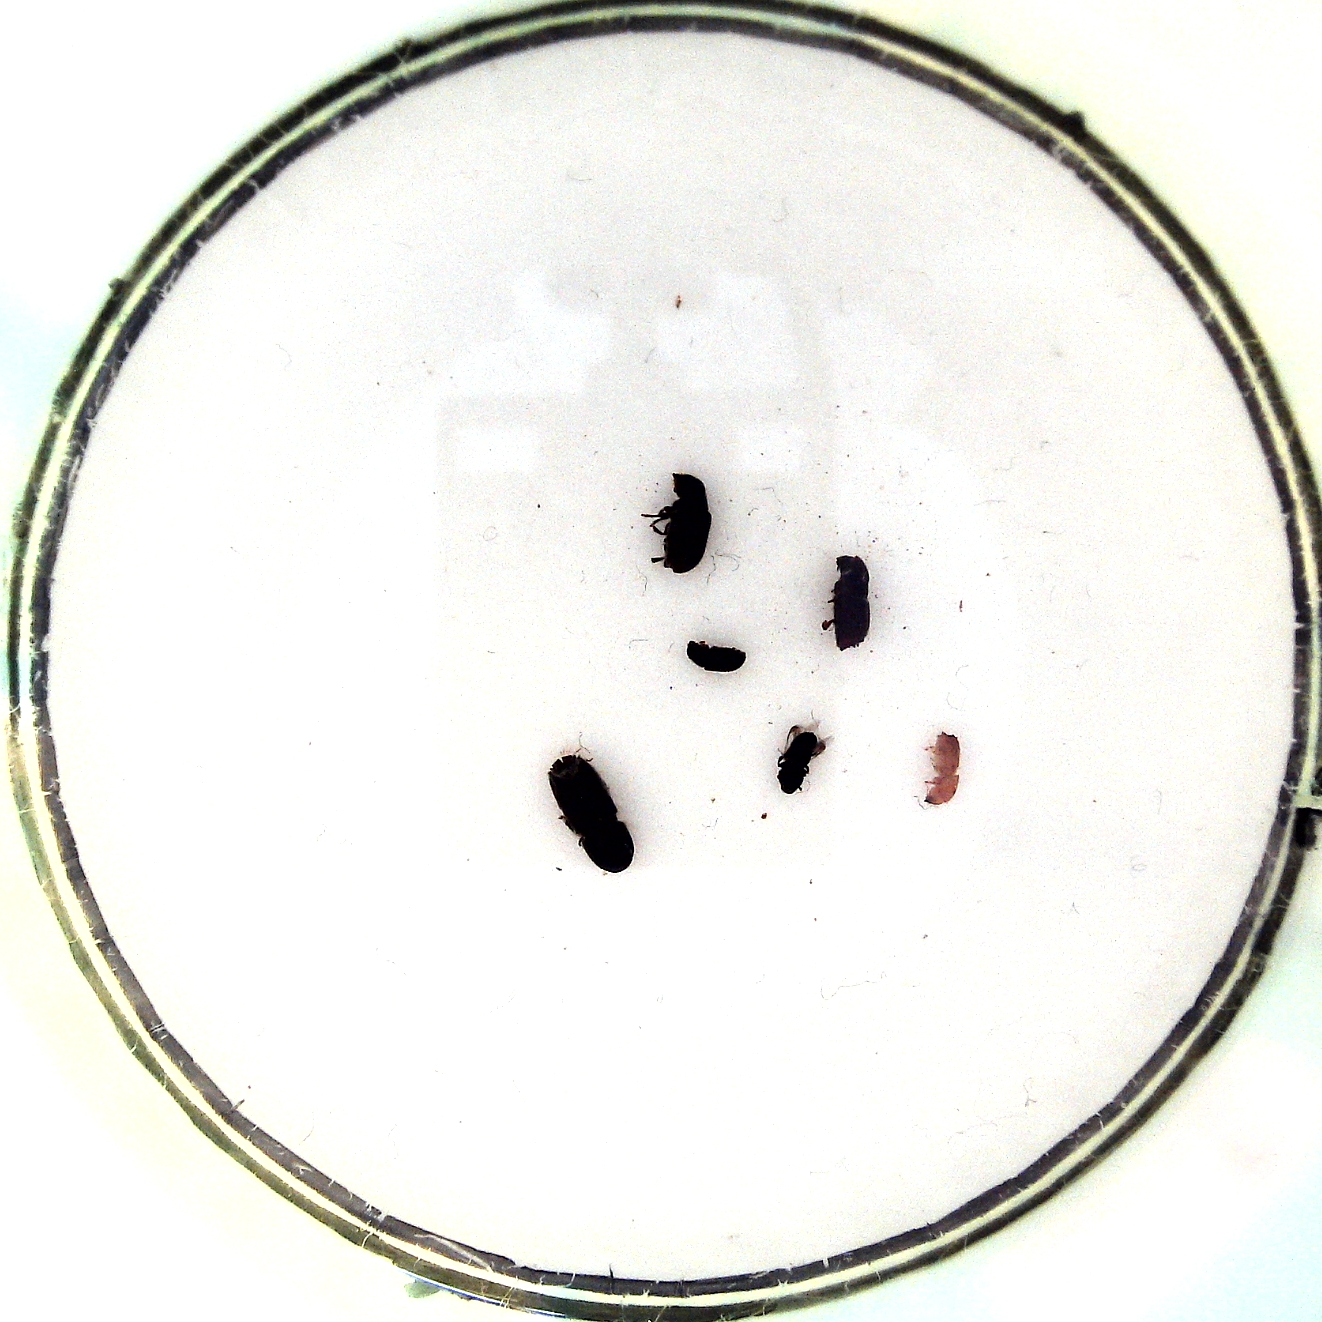Boerner: (544, 745, 640, 878)
Linnaeus: (820, 548, 879, 659)
acuminatus: (918, 728, 967, 812)
armandi: (640, 469, 718, 577)
coleoptera: (774, 717, 840, 797), (684, 632, 751, 678)
